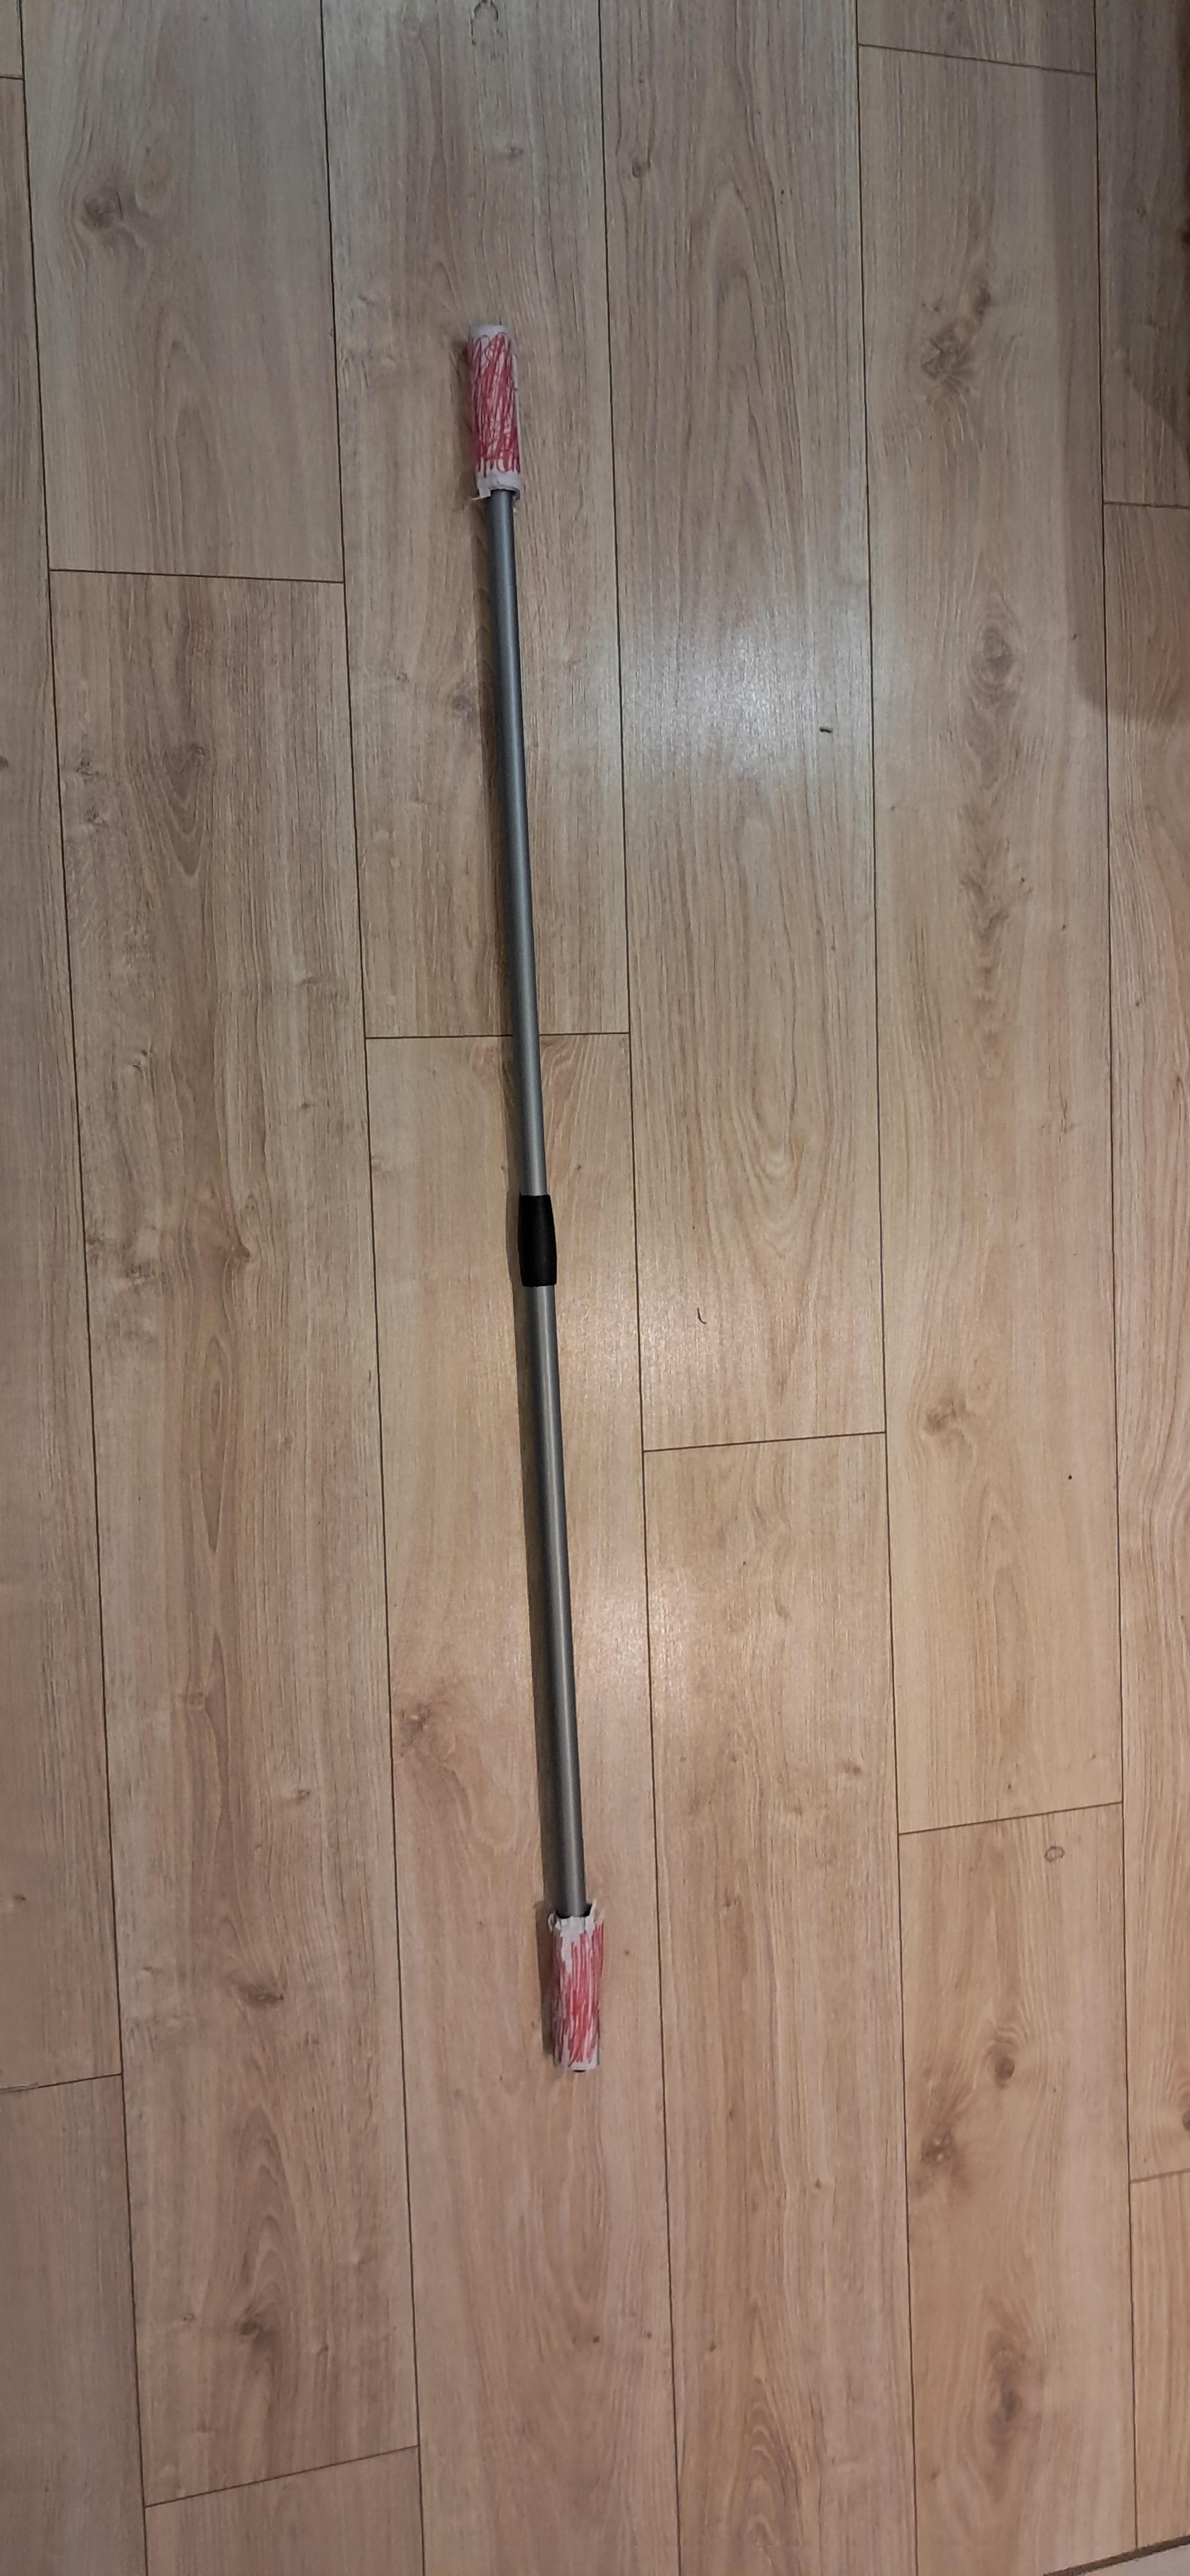broom-handle: (468, 325, 603, 2070)
